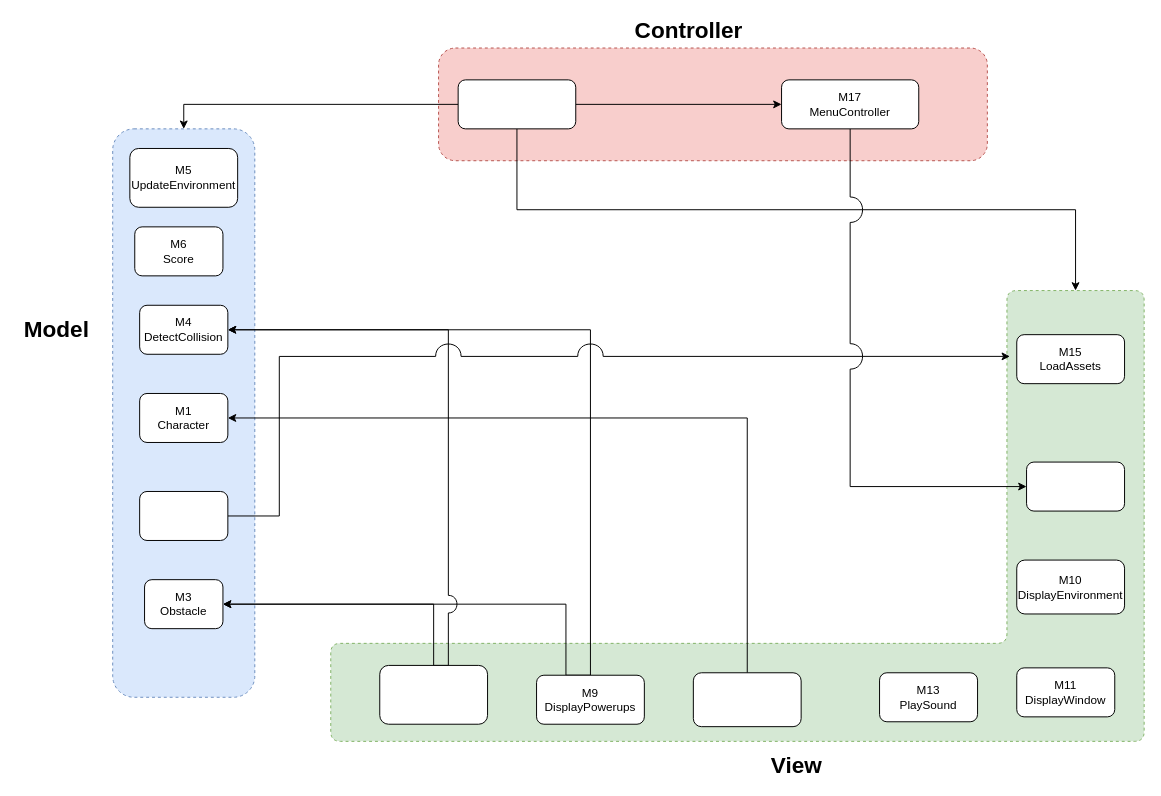
Image size: 1161x796. Some labels were removed from this diagram. The shapes that lost their labels are listed below. From the top down, each one's centre as x and y in pixels, then its label:
At (x=516, y=104): "M16 GameController".
At (x=1075, y=486): "M14 DisplayMenu".
At (x=183, y=515): "M2 PowerUps".
At (x=433, y=694): "M8 DisplayObstacle".
At (x=746, y=699): "M12 DisplayCharacter".
